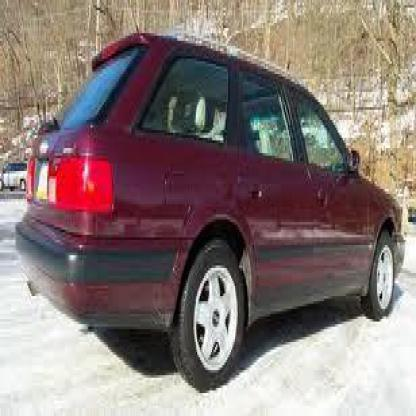Vehicle: (17, 35, 406, 396)
